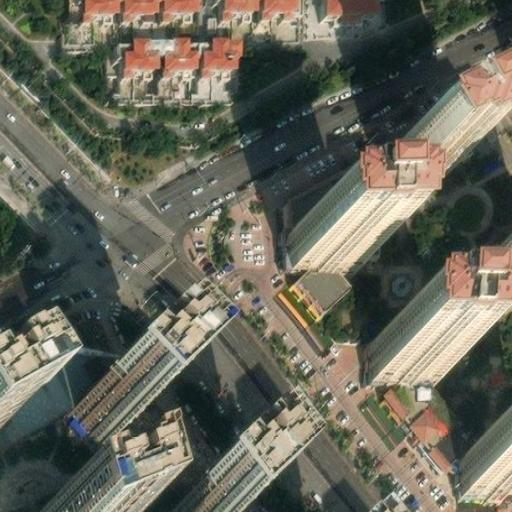building: (282, 111, 438, 261), (384, 380, 482, 468), (384, 105, 474, 185), (66, 358, 149, 441), (373, 329, 457, 382), (293, 210, 376, 263), (294, 262, 352, 308), (471, 438, 512, 492), (477, 246, 512, 305), (118, 32, 164, 65), (164, 32, 201, 72), (201, 32, 240, 69), (264, 0, 299, 12)
